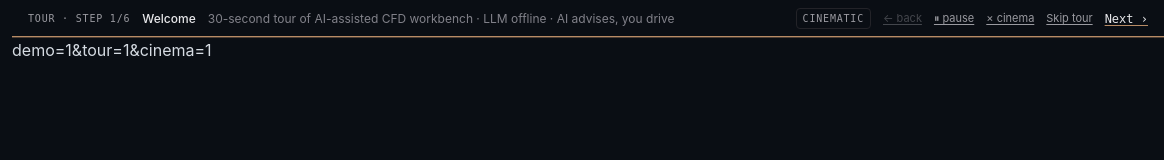
it: CinematicMode V5.C · V83.4 › pause toggles between cinematic-pause and cinematic-resume
Click the button with test id "cinematic-pause".
click(954, 19)  # box [934,10,974,27]
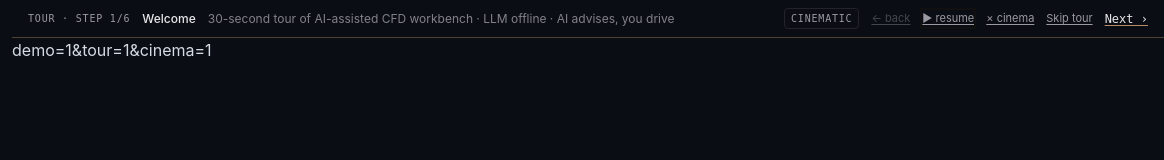
Expected: the button with test id "cinematic-resume" is shown, [922,10,974,27]
